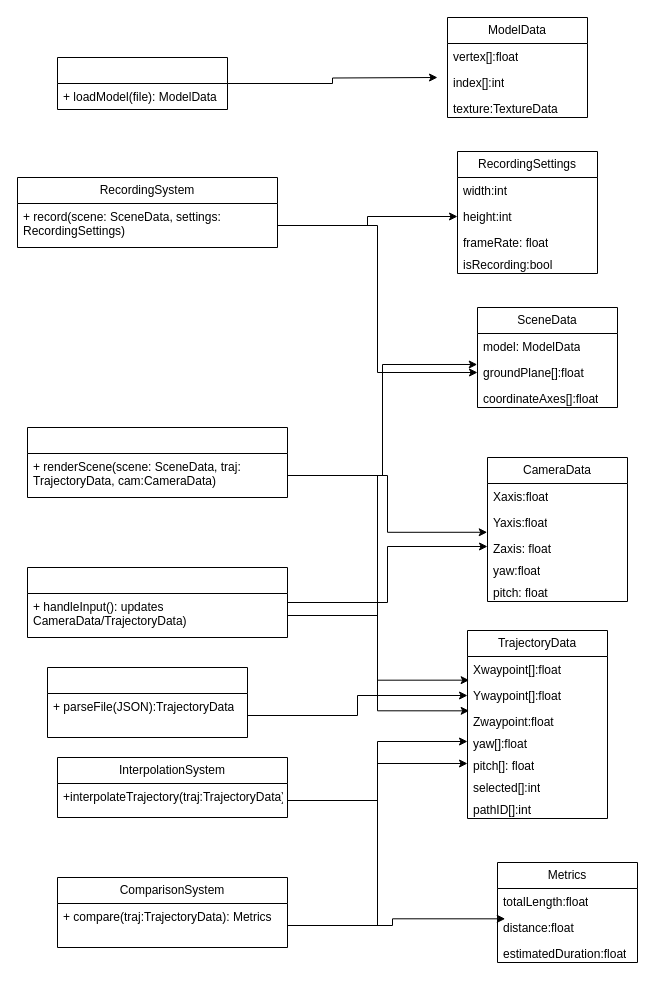
This 655x983 diagram has some shape labels left out. The box of each missing label's shape, as (x1, y1, x2, y2) in pixels:
InoutHandlingSystem: (26, 566, 288, 638)
ModelLoadingSystem: (56, 56, 228, 110)
RenderingSystem: (26, 426, 288, 498)
TrajectorySystem: (46, 666, 248, 738)
